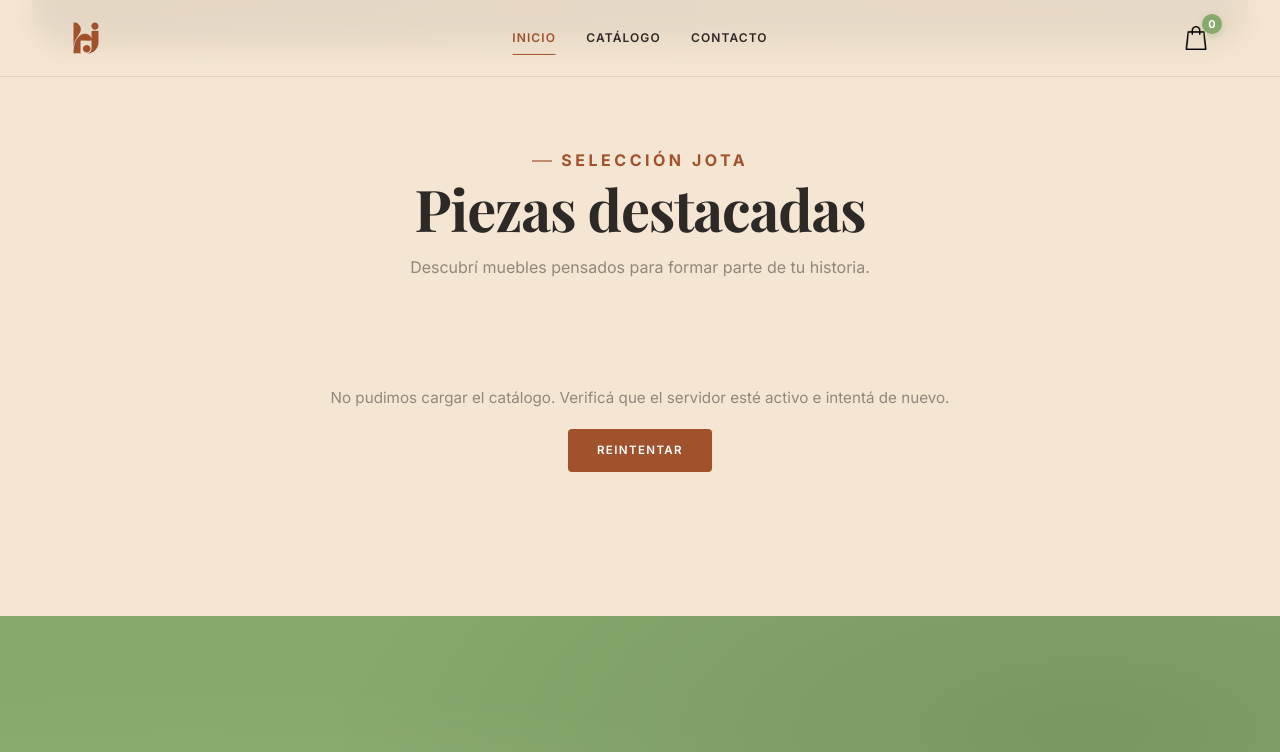
Test: Hermanos Jota — Componentes, navegación y API › Muestra un error y permite reintentar si la API falla
The image size is (1280, 752).
(page scrolled)
Expected: the message shows "No pudimos cargar el catálogo", [330, 388, 949, 407]
// Reintentar → éxito
Click the button "REINTENTAR": (640, 450) [568, 429, 712, 472]
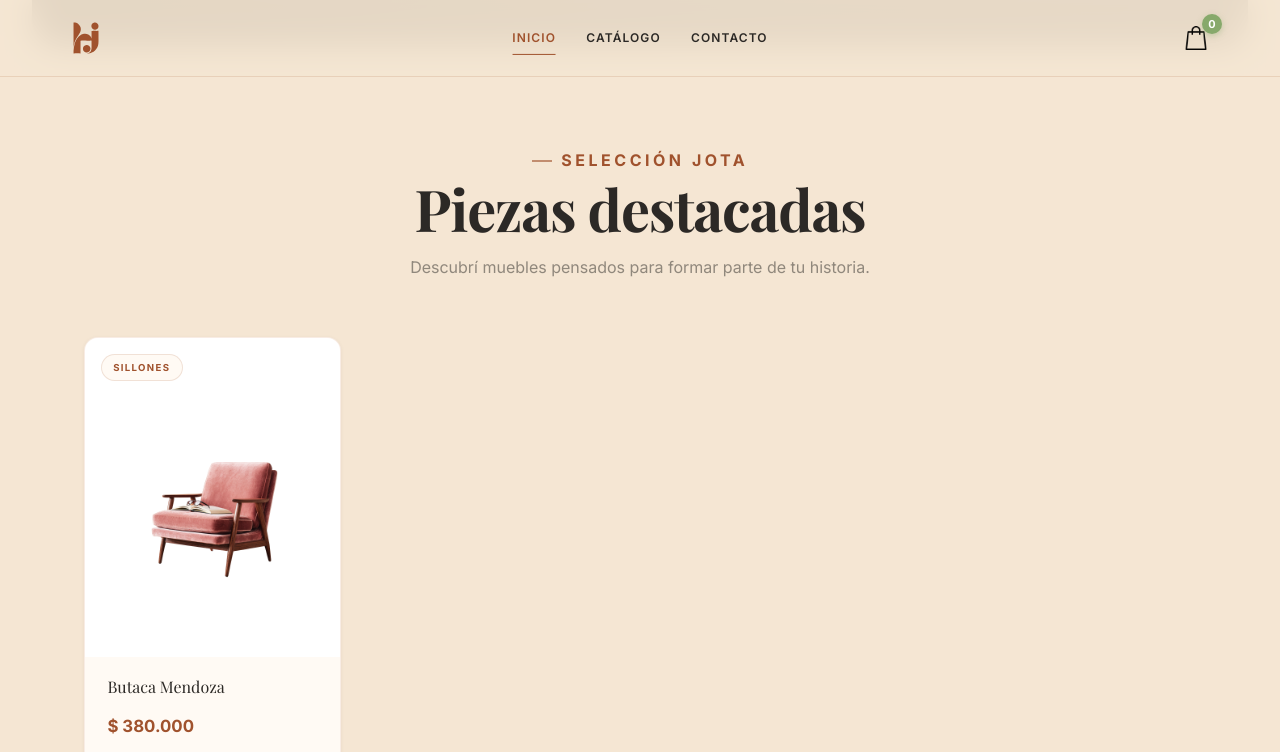
Now the heading "Butaca Mendoza" is shown, box [107, 676, 225, 697]
